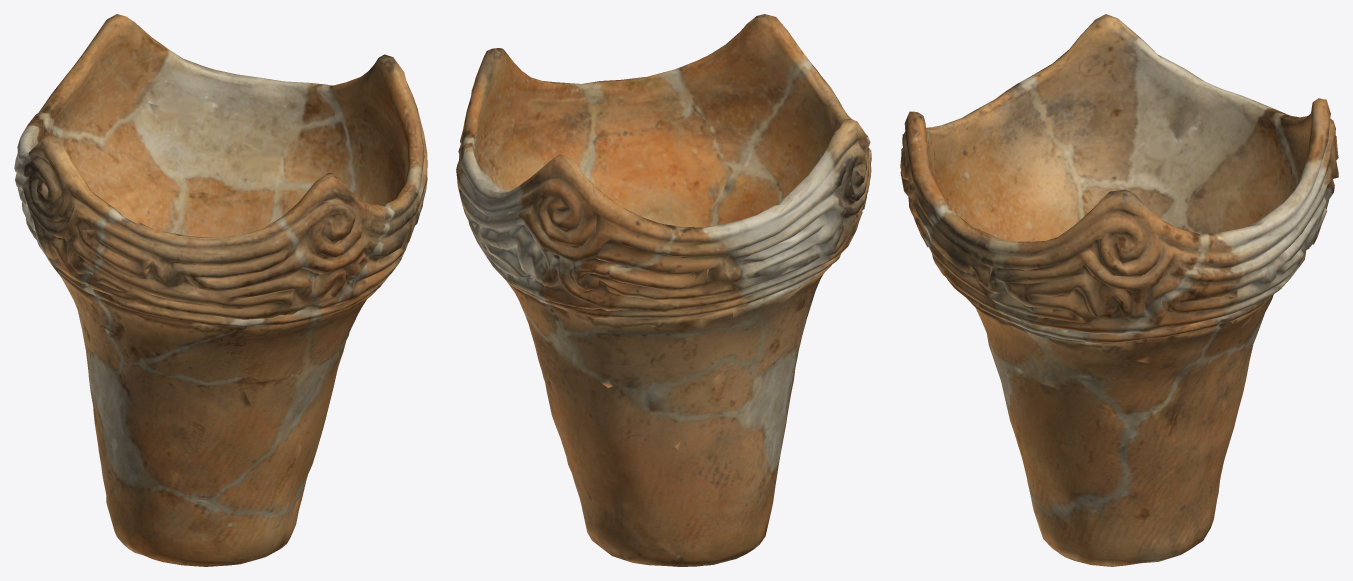
3 views of the same model, side by side, from view 1: azimuth 30°, elevation 25°; view 2: azimuth 150°, elevation 25°; view 3: azimuth 270°, elevation 25° (orthographic). The views are drawn at different scales.
Parts seen in each view (by area): view 1: TJ0010_low; view 2: TJ0010_low; view 3: TJ0010_low.
Boxes of the visible parts, <box> form: TJ0010_low: <box>14,14,427,566</box>; TJ0010_low: <box>456,14,871,566</box>; TJ0010_low: <box>900,14,1338,566</box>.
Size of the model in its own units: 210 by 239 by 216.
1 material, 1 textured.
